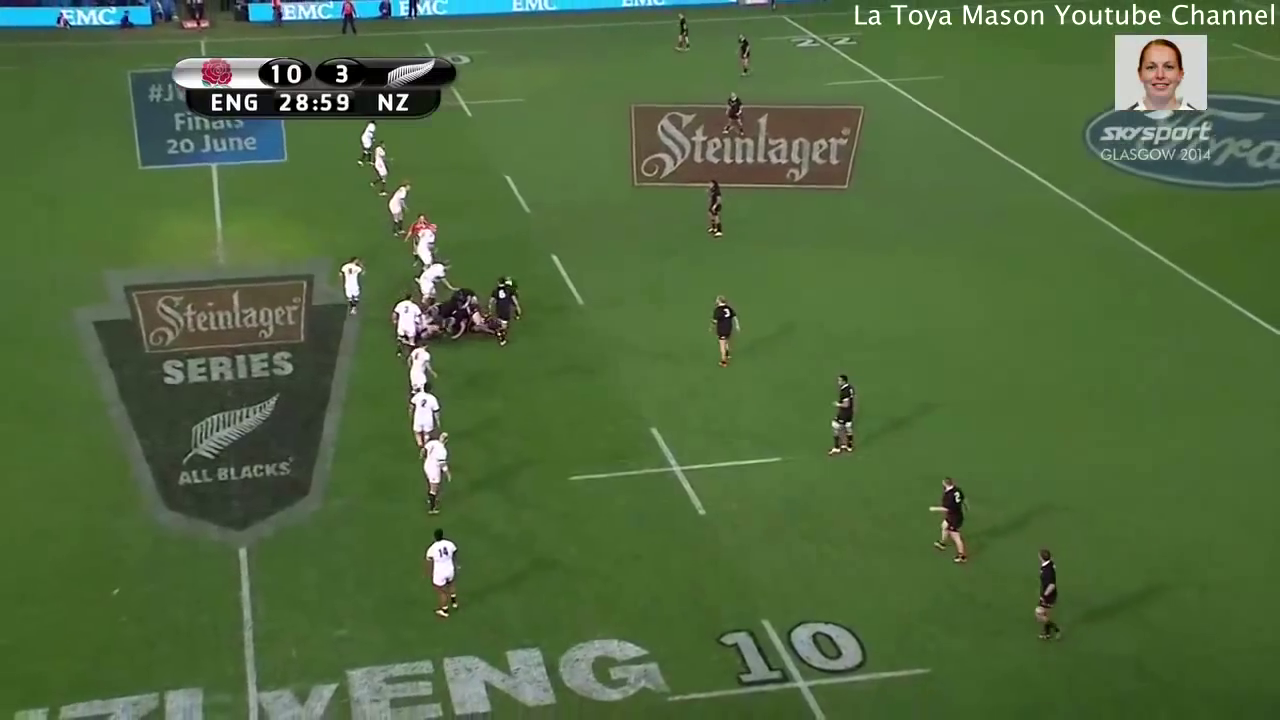10_metre: (653, 600, 939, 720), (546, 417, 803, 525), (404, 84, 532, 124), (386, 37, 498, 71)
player: (923, 472, 981, 567), (416, 521, 466, 625), (1024, 544, 1069, 646), (410, 425, 456, 518), (701, 288, 747, 376), (818, 368, 860, 464), (480, 270, 525, 354), (404, 377, 445, 450), (332, 244, 369, 320), (386, 290, 427, 357), (409, 255, 462, 306), (382, 171, 415, 241), (402, 336, 437, 401), (699, 174, 729, 244), (366, 135, 393, 200), (730, 25, 760, 83), (716, 88, 748, 140), (446, 285, 483, 327), (353, 118, 382, 169), (417, 215, 441, 276), (669, 7, 698, 57), (407, 201, 433, 241)
ruck: (397, 282, 505, 342)
